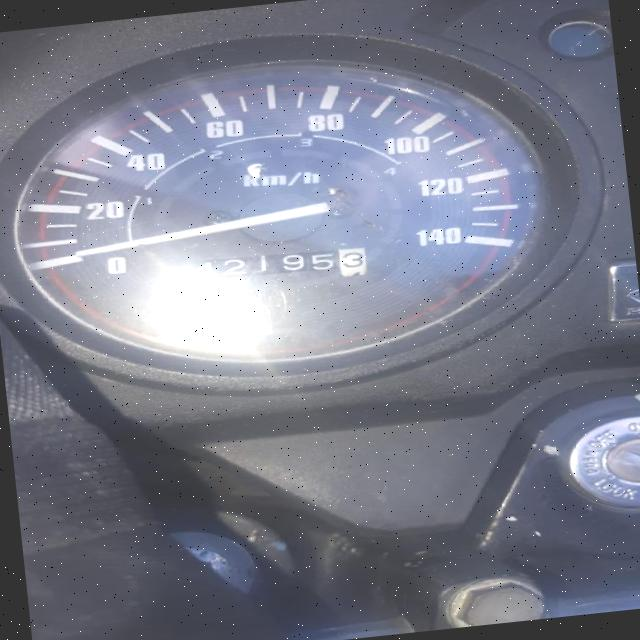odometer: (184, 239, 370, 293)
